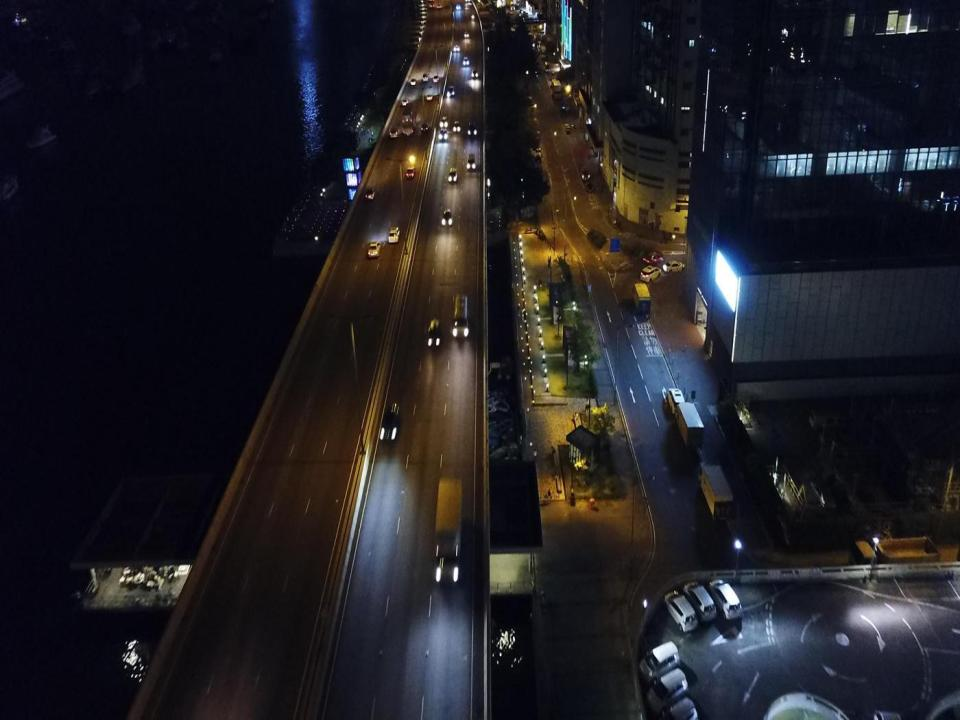bus: (452, 293, 468, 342), (402, 102, 416, 134), (430, 0, 435, 8)
car: (646, 668, 690, 712), (638, 640, 680, 684), (682, 580, 716, 623), (664, 590, 698, 632), (708, 580, 741, 620), (379, 400, 401, 445), (656, 696, 698, 719), (426, 319, 441, 350), (663, 260, 685, 273), (368, 241, 381, 259), (642, 252, 663, 263), (442, 209, 452, 225), (583, 180, 594, 192), (449, 167, 457, 182), (365, 187, 375, 199), (406, 166, 414, 178), (468, 122, 475, 135), (440, 129, 448, 140), (582, 169, 590, 180), (453, 120, 460, 132), (554, 90, 562, 99), (426, 93, 434, 101), (421, 124, 429, 132), (471, 70, 478, 78), (441, 117, 446, 126), (433, 75, 439, 82), (402, 99, 409, 105), (464, 30, 469, 38), (454, 45, 460, 51), (410, 79, 416, 85), (455, 4, 461, 9), (436, 4, 442, 8), (509, 11, 513, 14)
truck: (850, 536, 940, 585), (435, 477, 463, 587), (699, 465, 733, 521), (676, 402, 704, 449), (632, 284, 650, 314), (552, 80, 562, 94), (467, 152, 474, 171), (505, 0, 515, 10)
van: (668, 388, 685, 414), (640, 265, 661, 282), (388, 227, 400, 243), (390, 126, 399, 138), (422, 73, 430, 81), (448, 86, 454, 96), (464, 57, 468, 65)
